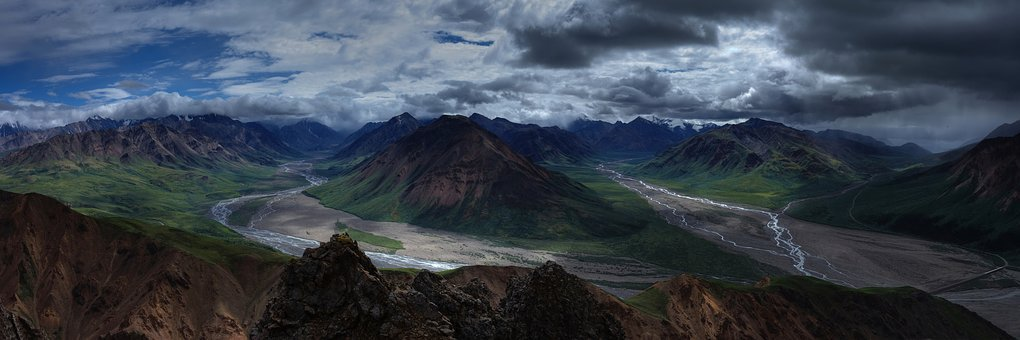mountain: (28, 118, 1020, 336)
sky: (4, 3, 1011, 132)
